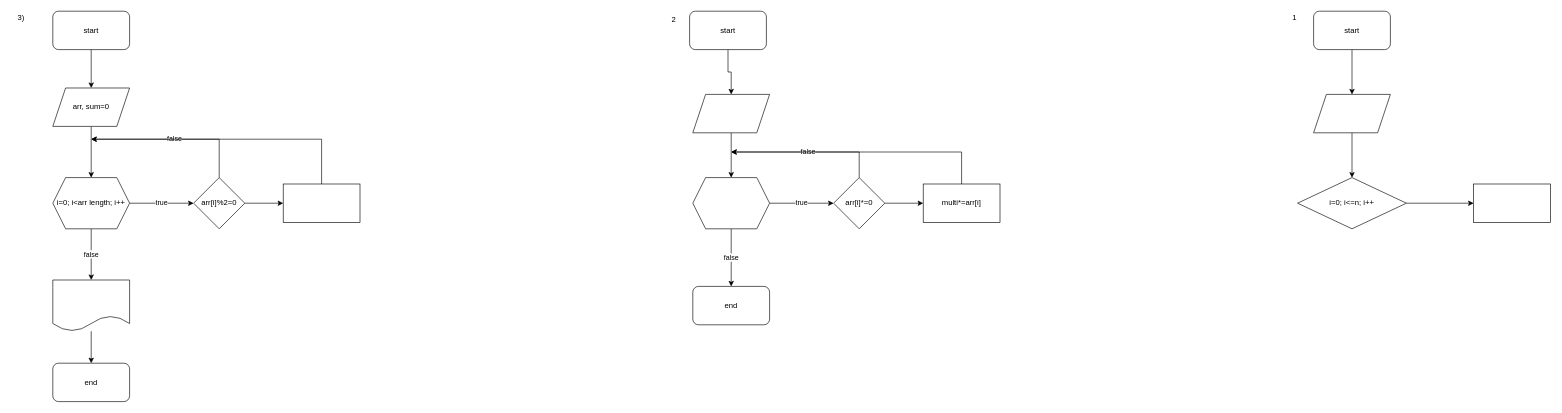
The diagram is 1562 pixels wide and 413 high, and some of its shapes have lost their labels. The centre of each missing label's shape, as x and y in pixels:
"arr, multi.=0" goes at pixel 731 113.
"i=0; i<arrl ength; i*" goes at pixel 731 203.
"n m=2" goes at pixel 1351 113.
"sum" goes at pixel 91 305.
"sum+*=arr[i]" goes at pixel 321 202.
